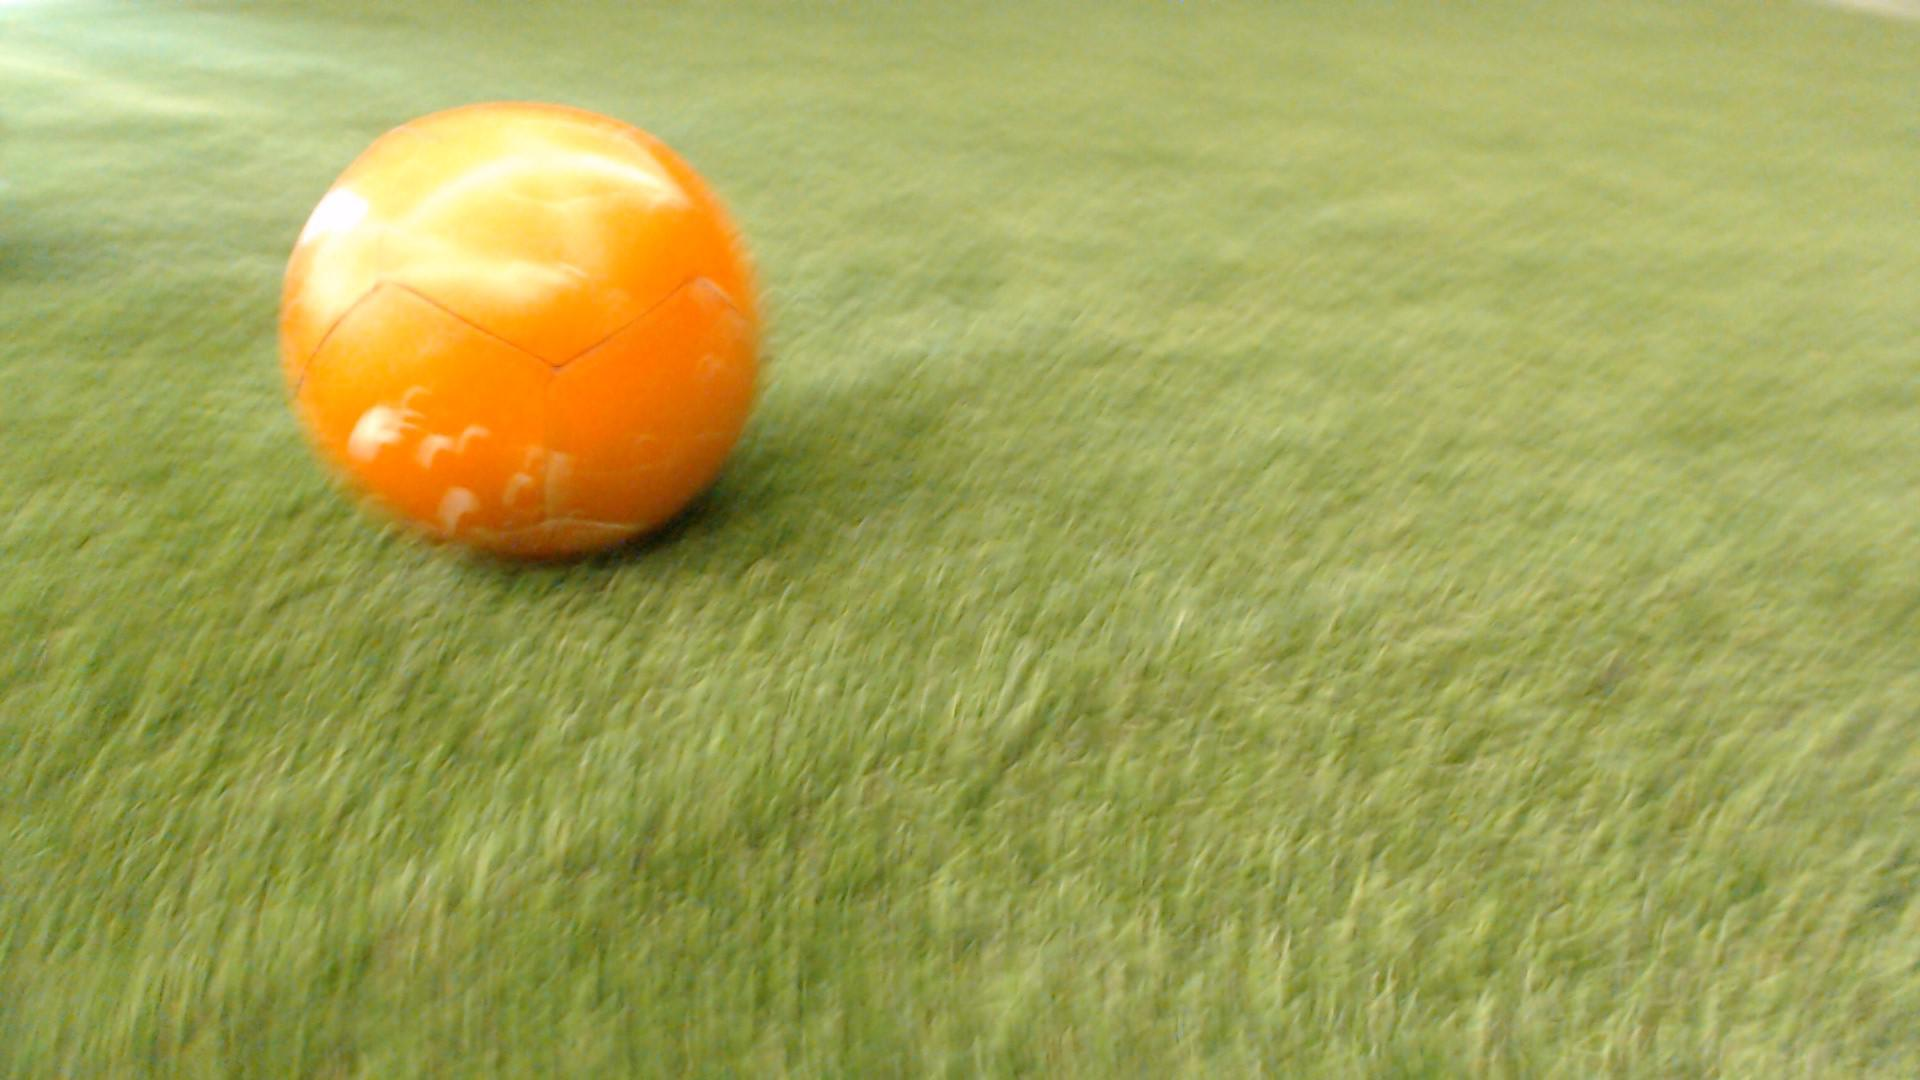bola: (272, 99, 800, 595)
